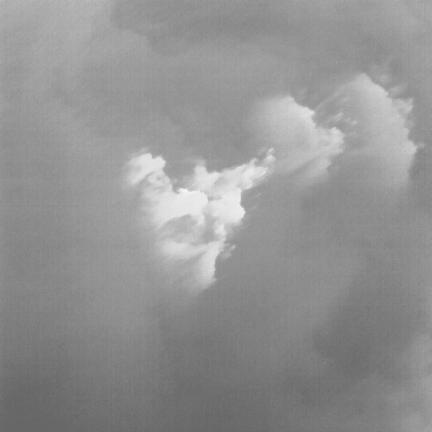flukeprints: (157, 189, 208, 223), (206, 186, 246, 225), (128, 154, 165, 184), (188, 165, 220, 192)
